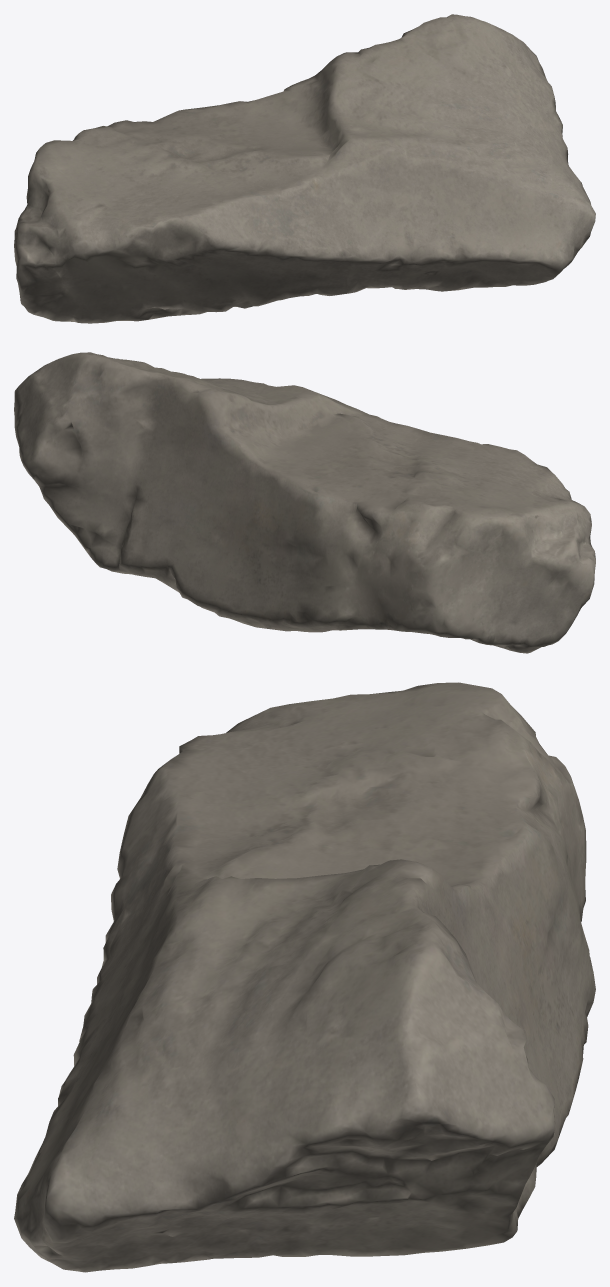
Rendered from moon_rock_01.glb.
The picture shows the model from 3 angles, top to bottom: view 1: azimuth 30°, elevation 25°; view 2: azimuth 150°, elevation 25°; view 3: azimuth 270°, elevation 25°; orthographic projection. The views are drawn at different scales.
Parts seen in each view (by area): view 1: moon_rock_01_LOD0; view 2: moon_rock_01_LOD0; view 3: moon_rock_01_LOD0.
Part boxes in pixels (left/top/right/bottom): moon_rock_01_LOD0: left=14, top=14, right=595, bottom=323; moon_rock_01_LOD0: left=14, top=352, right=595, bottom=653; moon_rock_01_LOD0: left=14, top=682, right=595, bottom=1272.
Size of what is drawn, in the model's own units: 0.2121 by 0.0751 by 0.1116.
1 material, 1 textured.
